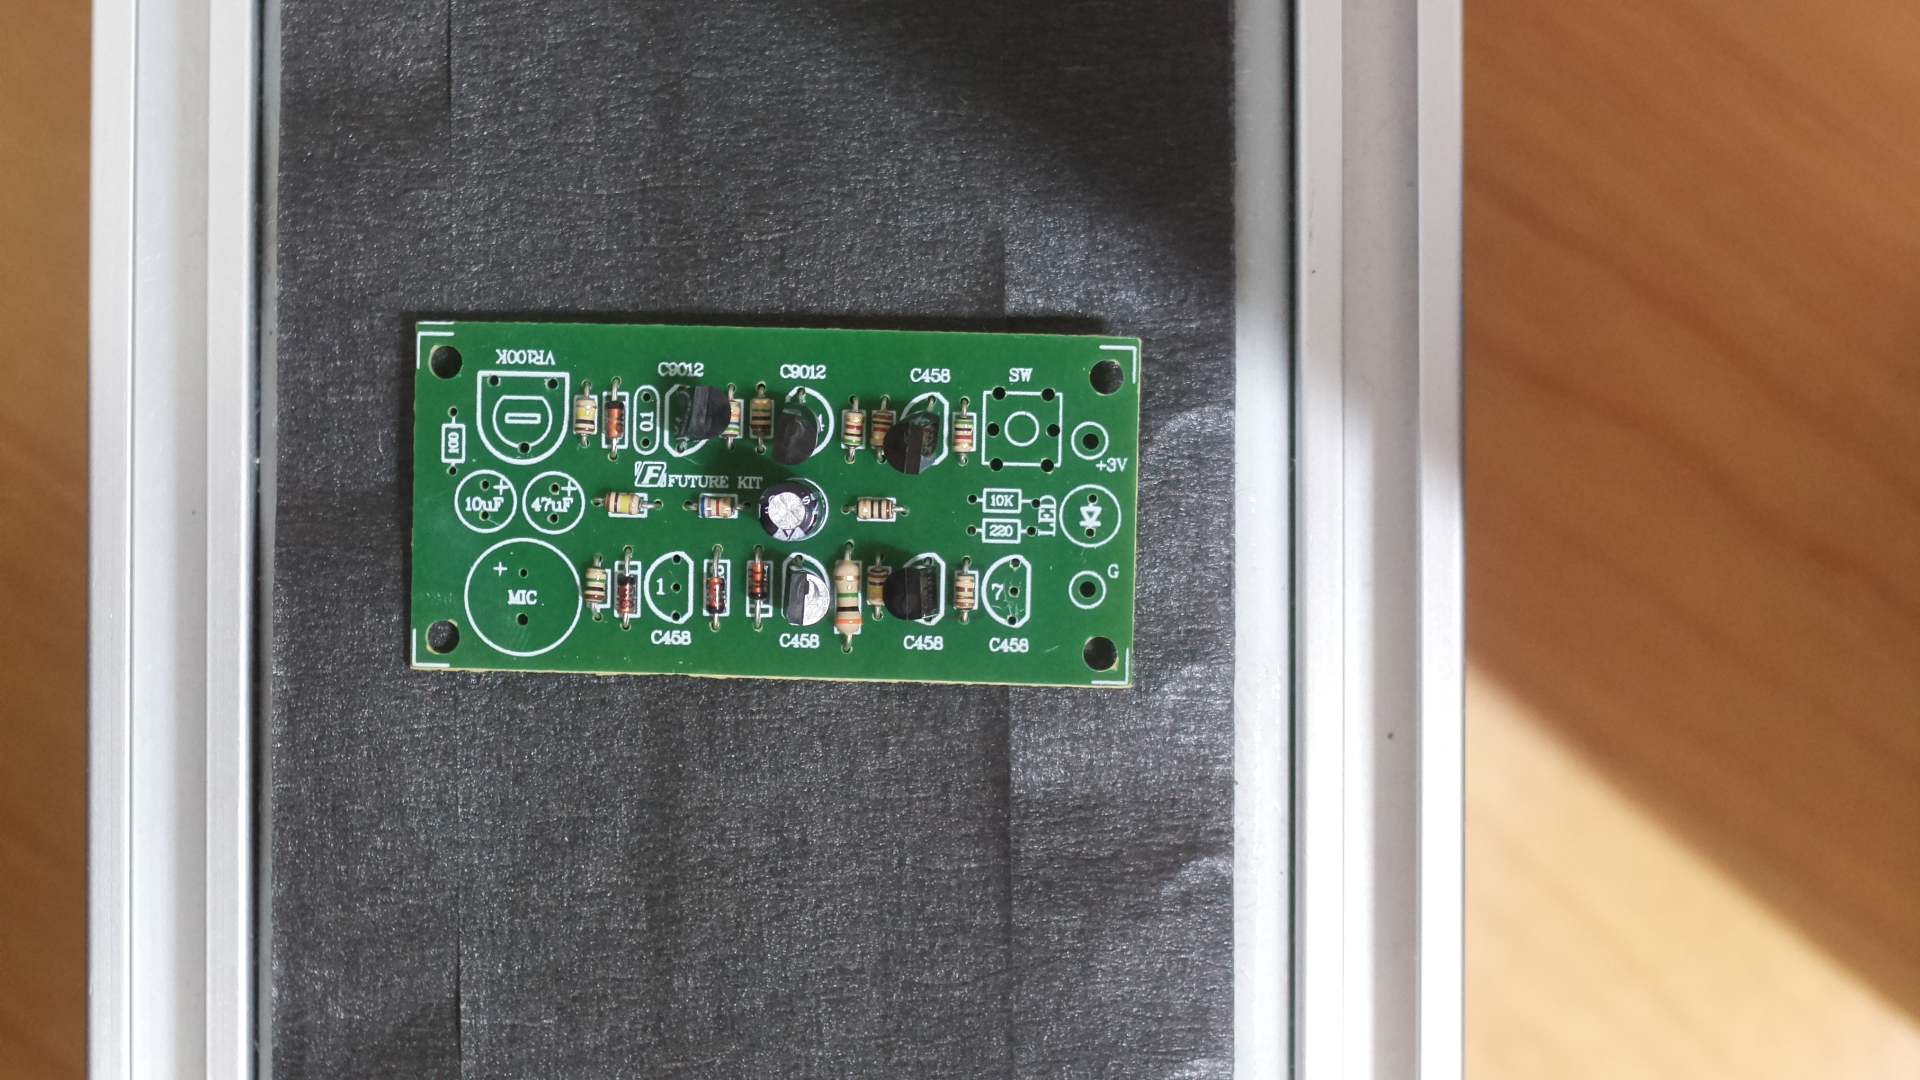A_Missing_part: (389, 303, 1153, 707)
